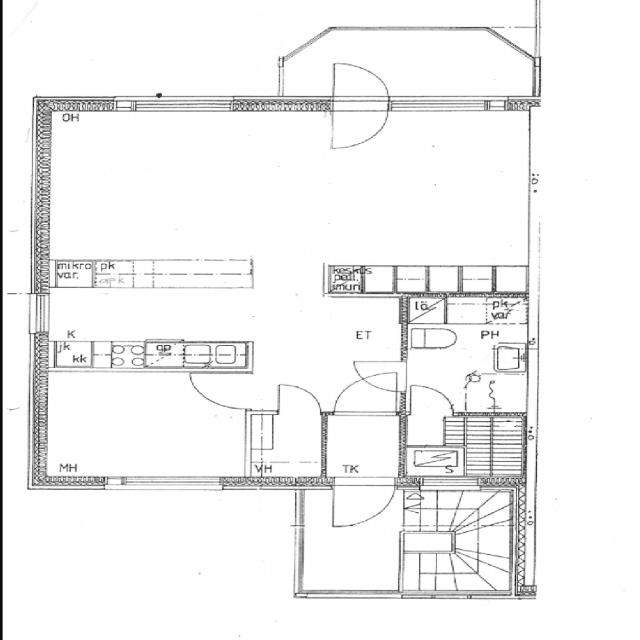door: (332, 477, 397, 533), (332, 57, 389, 111), (332, 96, 389, 150), (332, 368, 396, 416), (192, 374, 253, 409), (352, 361, 407, 392), (411, 382, 453, 418), (278, 383, 320, 415)
